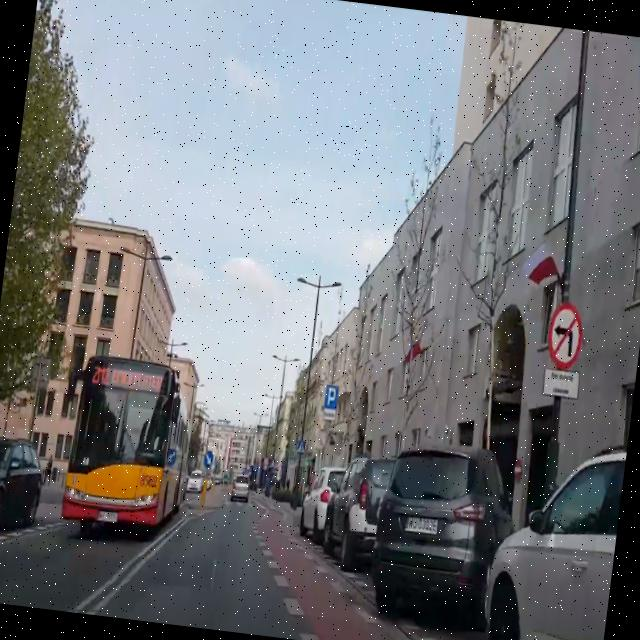Przejscie dla pieszych: (297, 438, 306, 454)
